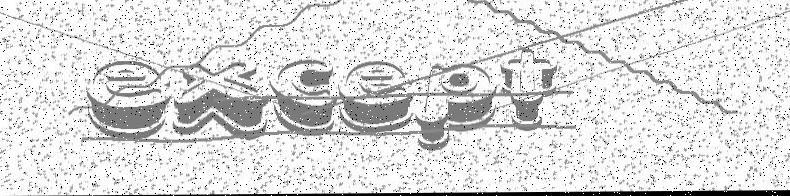c: (266, 53, 336, 137)
e: (83, 50, 171, 141), (337, 57, 416, 136)
p: (412, 58, 496, 154)
t: (499, 46, 560, 131)
x: (173, 51, 270, 142)
